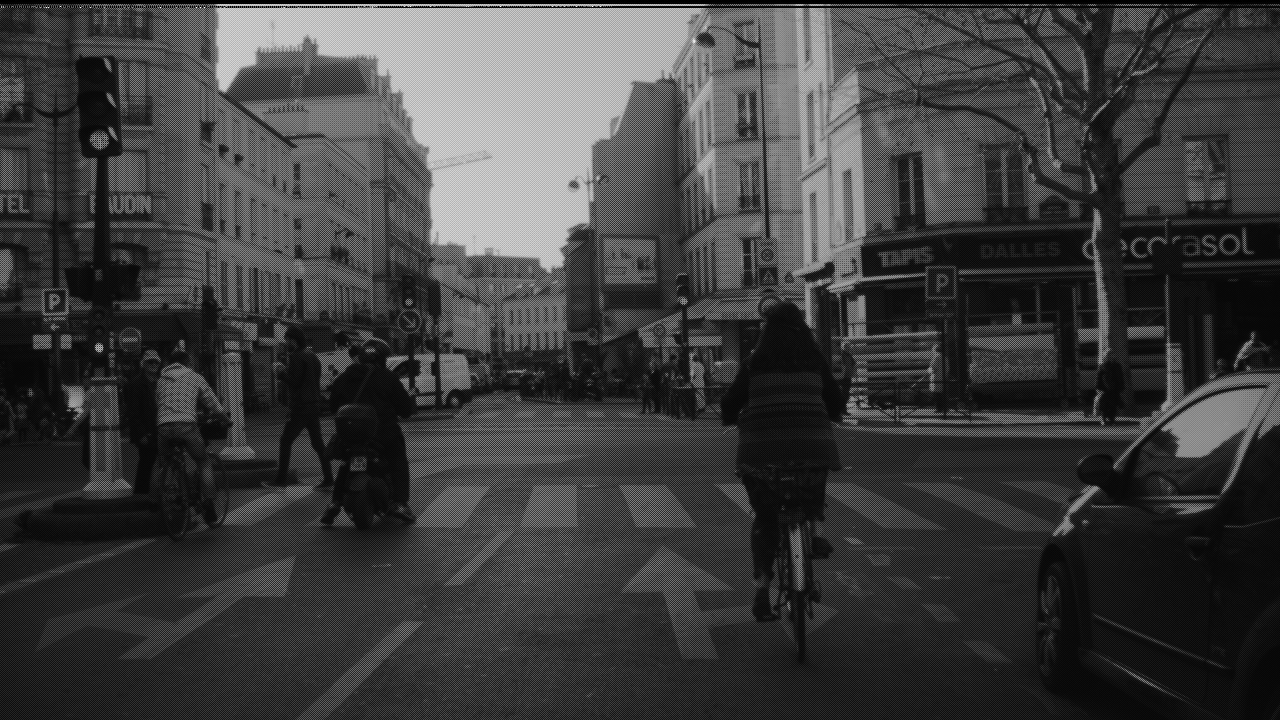pole: (754, 21, 772, 240)
